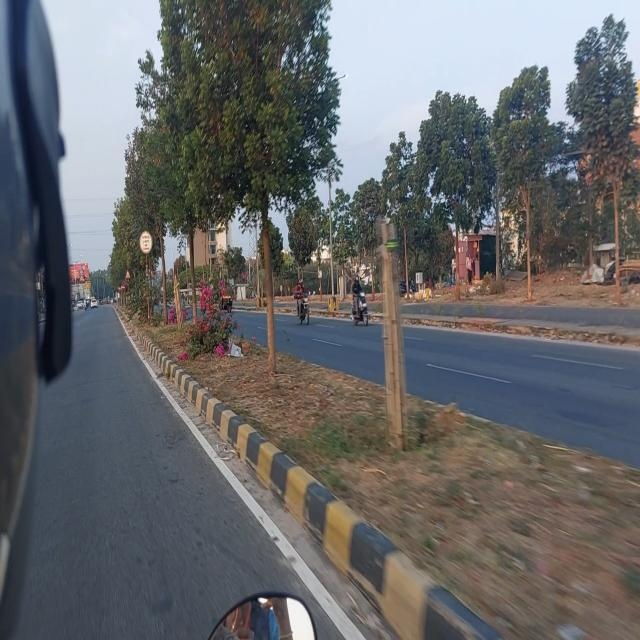bien_nguy_hiem: (139, 231, 154, 254)
